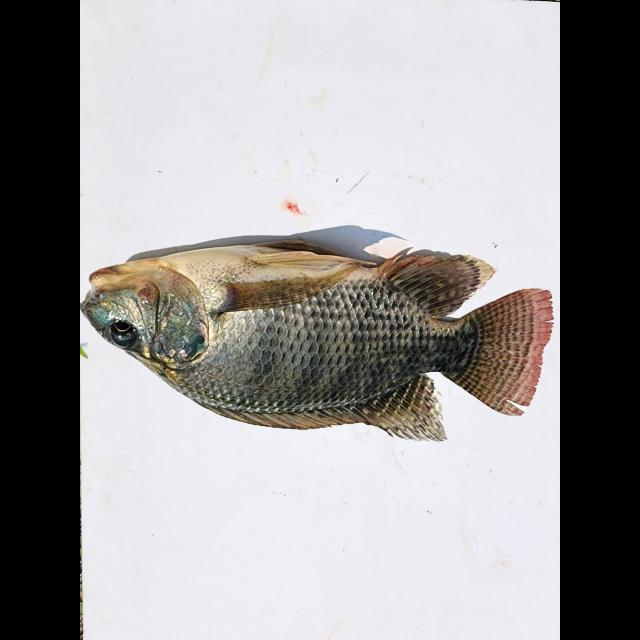Tilapia: (80, 243, 552, 445)
